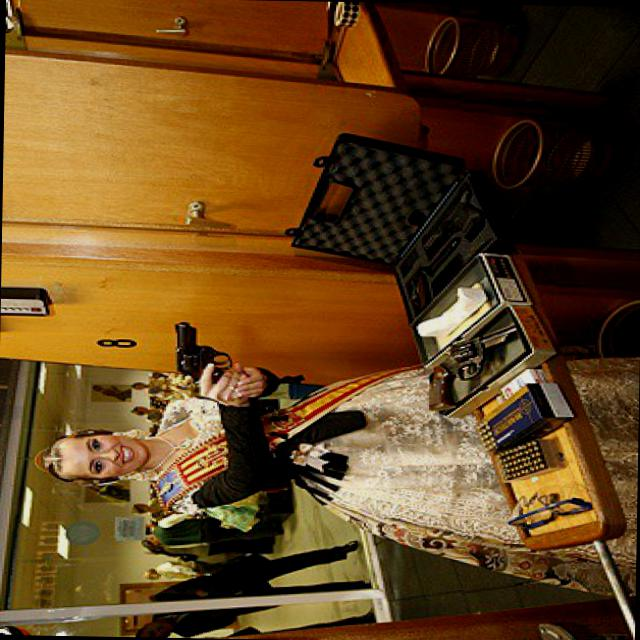handgun: (166, 317, 273, 403)
